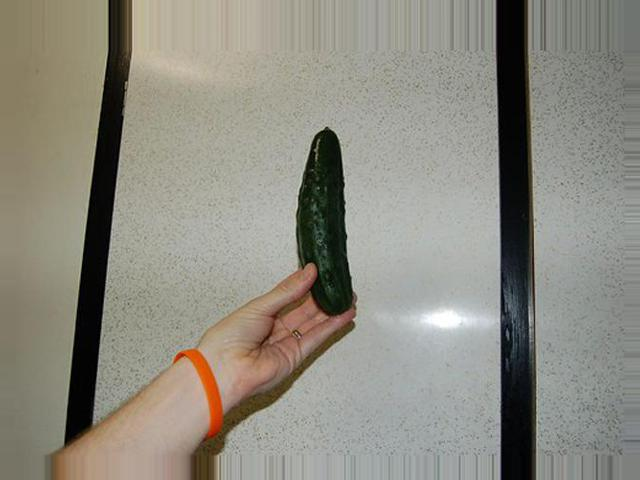cucumber: (298, 125, 353, 316)
